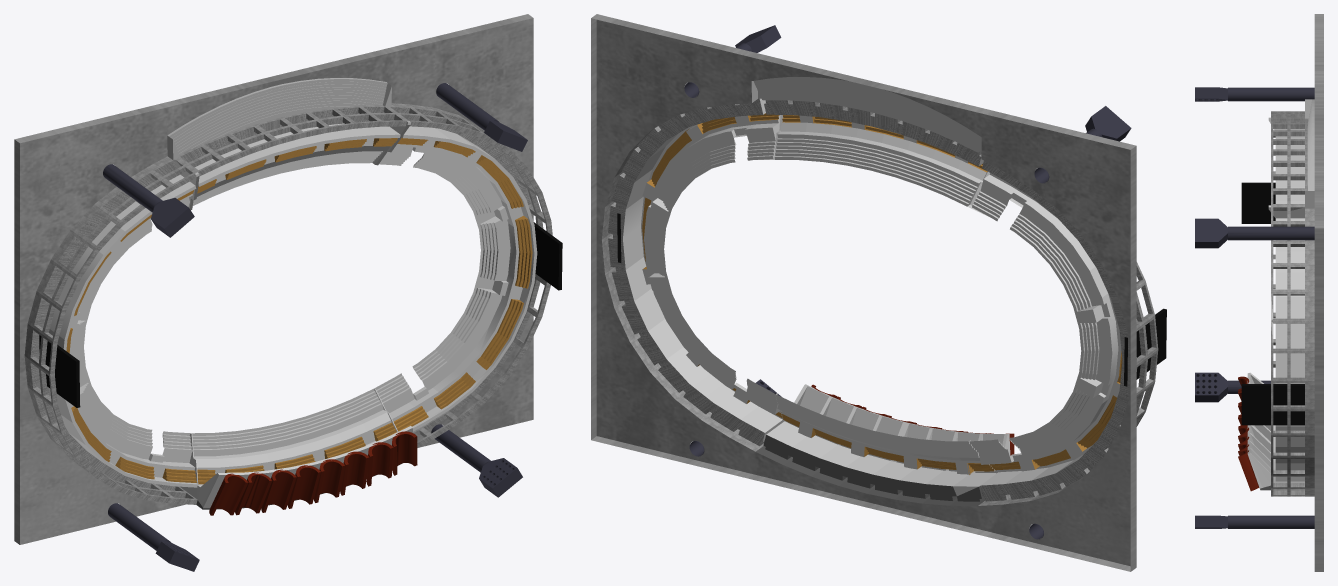
Rendered from Arene.obj.
3 views of the same model, side by side, from view 1: azimuth 30°, elevation 25°; view 2: azimuth 150°, elevation 25°; view 3: azimuth 270°, elevation 25° (orthographic). The views are drawn at different scales.
Parts seen in each view (by area): view 1: Base, Arene, Bordure, ToitDeco_Arene_011, Escaliers, Spot00, Spot02, Spot03, Spot01, Ecran01, Ecran00, Banc16 (+2 smaller); view 2: Base, Arene, Bordure, Escaliers, BordureCentre, Spot00, Ecran01, Poutre_Arene_041, Spot01; view 3: Bordure, Arene, Base, Ecran00, Spot01, Spot00, Spot02, Ecran01, Poutre_Arene_041, Spot03, Escaliers, ToitDeco_Arene_011.
Part boxes in pixels (x1=…): Base: x1=14, y1=14, x2=533, y2=544; Arene: x1=48, y1=119, x2=537, y2=508; Bordure: x1=24, y1=103, x2=552, y2=504; ToitDeco_Arene_011: x1=209, y1=431, x2=417, y2=515; Escaliers: x1=167, y1=78, x2=391, y2=160; Spot00: x1=103, y1=164, x2=194, y2=237; Spot02: x1=431, y1=424, x2=522, y2=497; Spot03: x1=108, y1=503, x2=199, y2=571; Spot01: x1=436, y1=83, x2=527, y2=151; Ecran01: x1=39, y1=335, x2=80, y2=407; Ecran00: x1=533, y1=222, x2=562, y2=290; Banc16: x1=476, y1=299, x2=523, y2=369; Base: x1=591, y1=14, x2=1136, y2=571; Arene: x1=623, y1=98, x2=1137, y2=495; Bordure: x1=602, y1=98, x2=1158, y2=505; Escaliers: x1=751, y1=77, x2=981, y2=152; BordureCentre: x1=756, y1=435, x2=985, y2=505; Spot00: x1=1034, y1=106, x2=1131, y2=183; Ecran01: x1=1124, y1=308, x2=1166, y2=386; Poutre_Arene_041: x1=763, y1=384, x2=1010, y2=472; Spot01: x1=684, y1=25, x2=781, y2=97; Bordure: x1=1271, y1=111, x2=1314, y2=496; Arene: x1=1247, y1=117, x2=1304, y2=482; Base: x1=1314, y1=14, x2=1323, y2=571; Ecran00: x1=1241, y1=384, x2=1304, y2=425; Spot01: x1=1195, y1=218, x2=1314, y2=248; Spot00: x1=1195, y1=87, x2=1314, y2=101; Spot02: x1=1195, y1=515, x2=1314, y2=528; Ecran01: x1=1241, y1=182, x2=1275, y2=223; Poutre_Arene_041: x1=1247, y1=372, x2=1304, y2=488; Spot03: x1=1195, y1=372, x2=1270, y2=402; Escaliers: x1=1305, y1=99, x2=1314, y2=208; ToitDeco_Arene_011: x1=1238, y1=376, x2=1259, y2=491.
Size of the model in its own units: 945 by 708 by 240.
